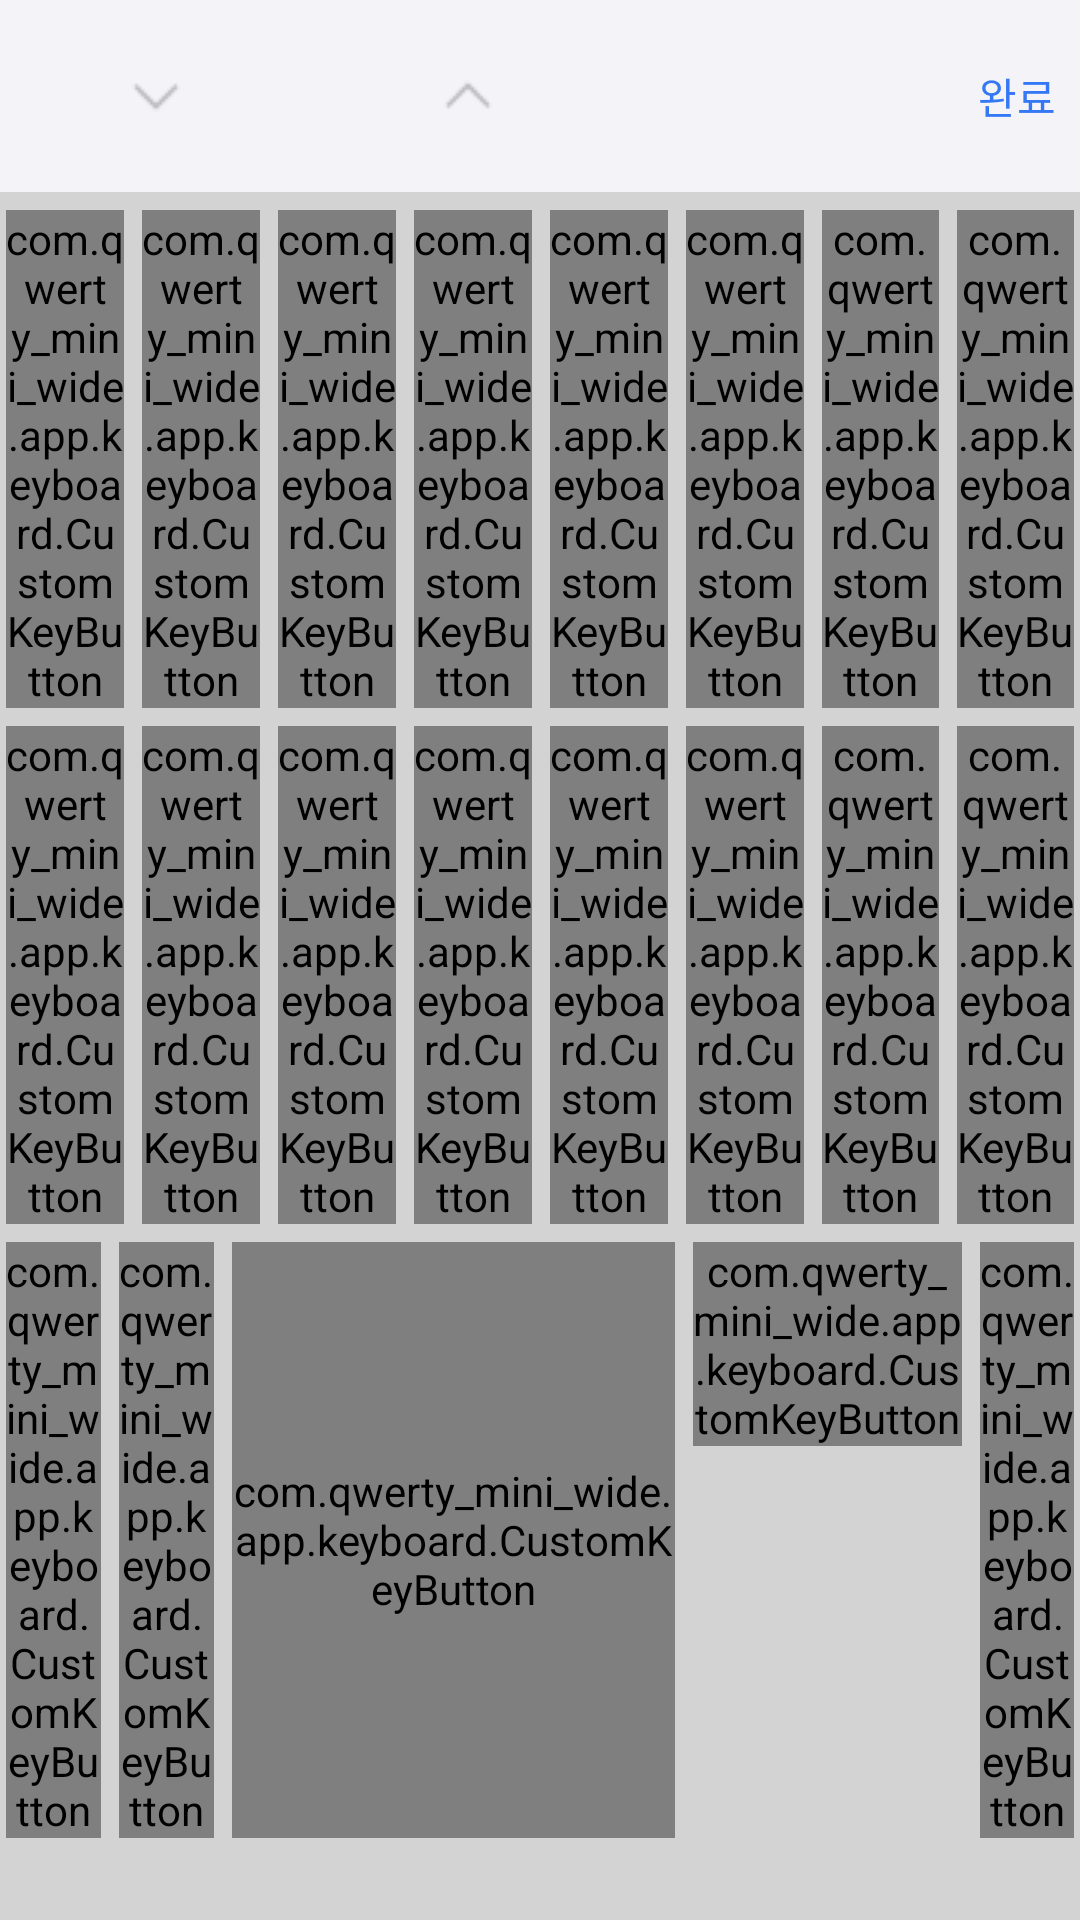

Named icons in this screenshot (1080*1920) and their centers, (x,y):
arrow down: (156,97)
arrow up: (468,96)
